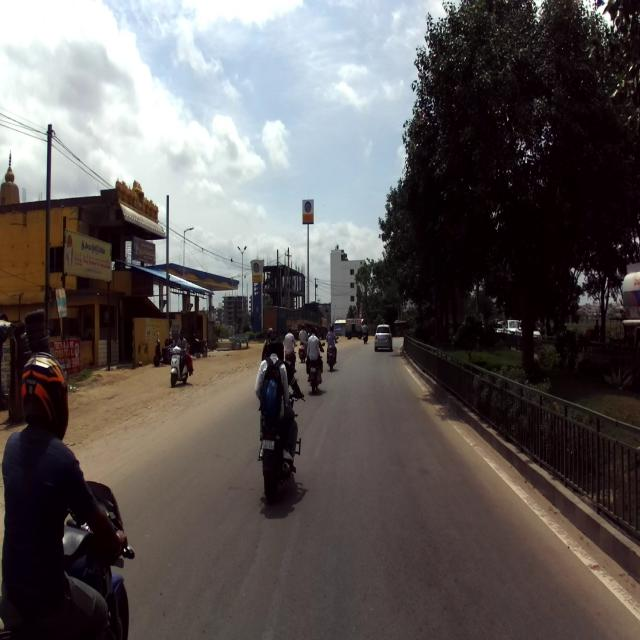motorcycle: (0, 478, 135, 638), (258, 391, 304, 504)
